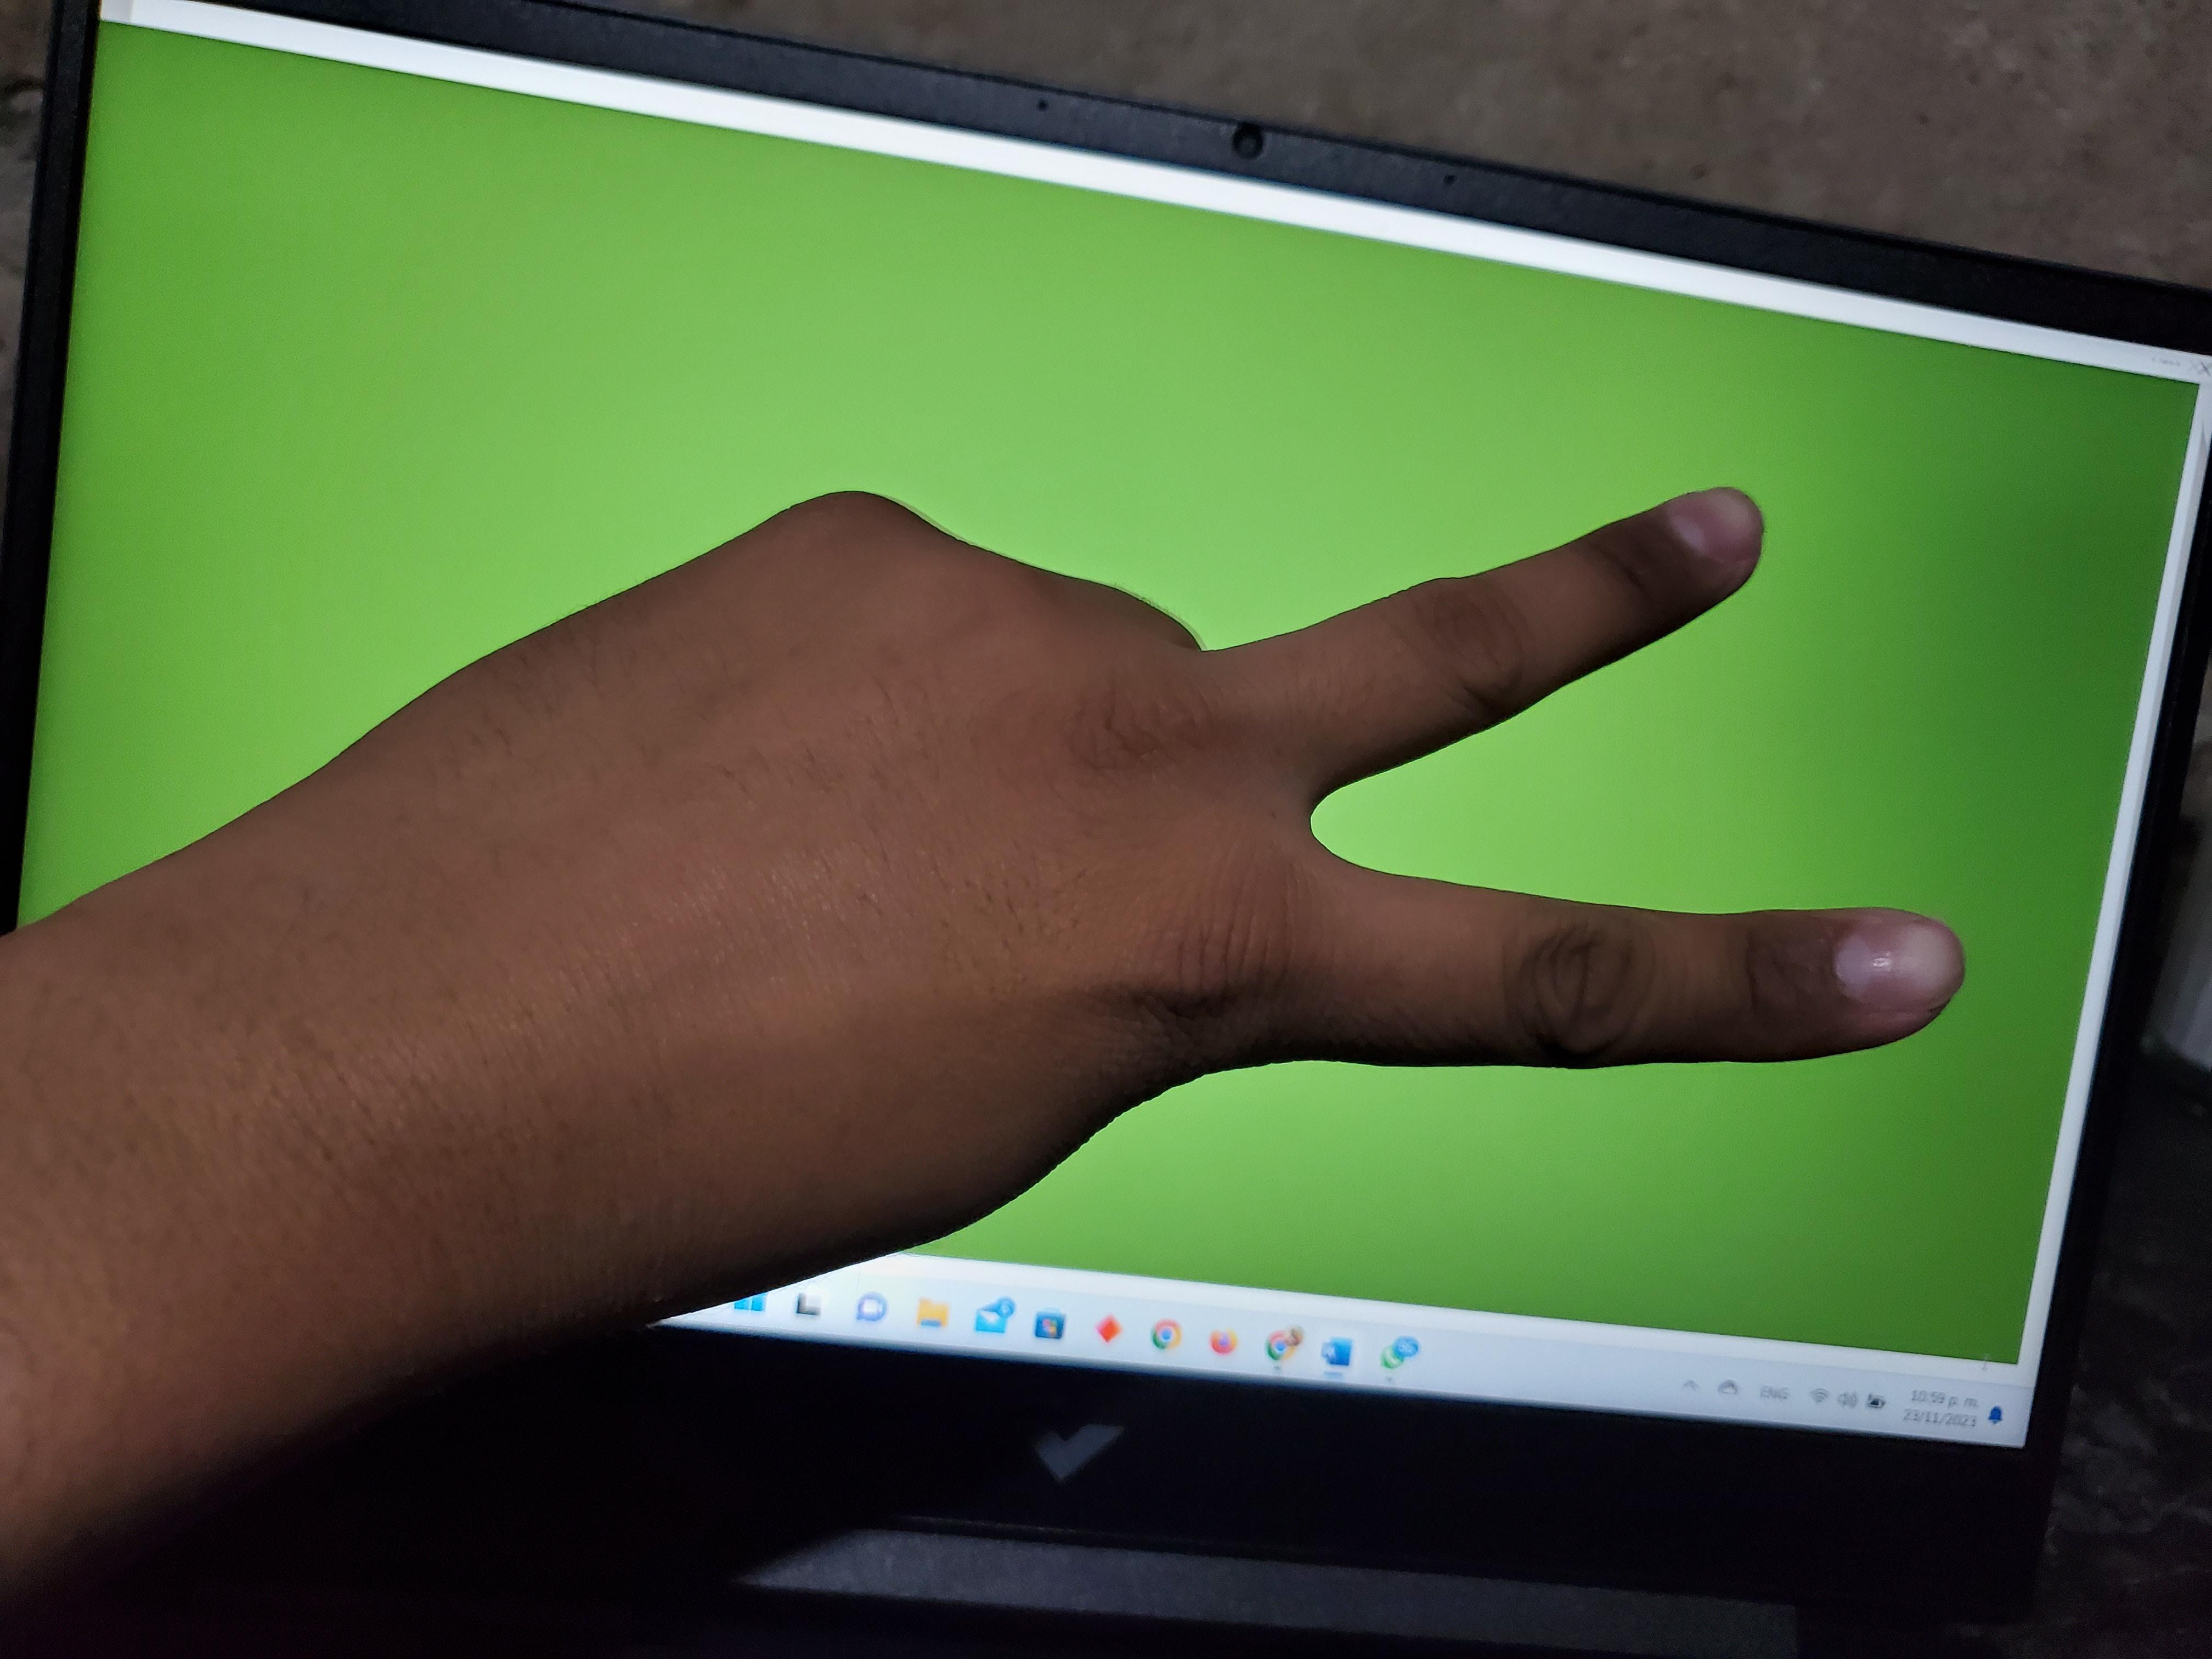Scissor: (39, 149, 2085, 1448)
